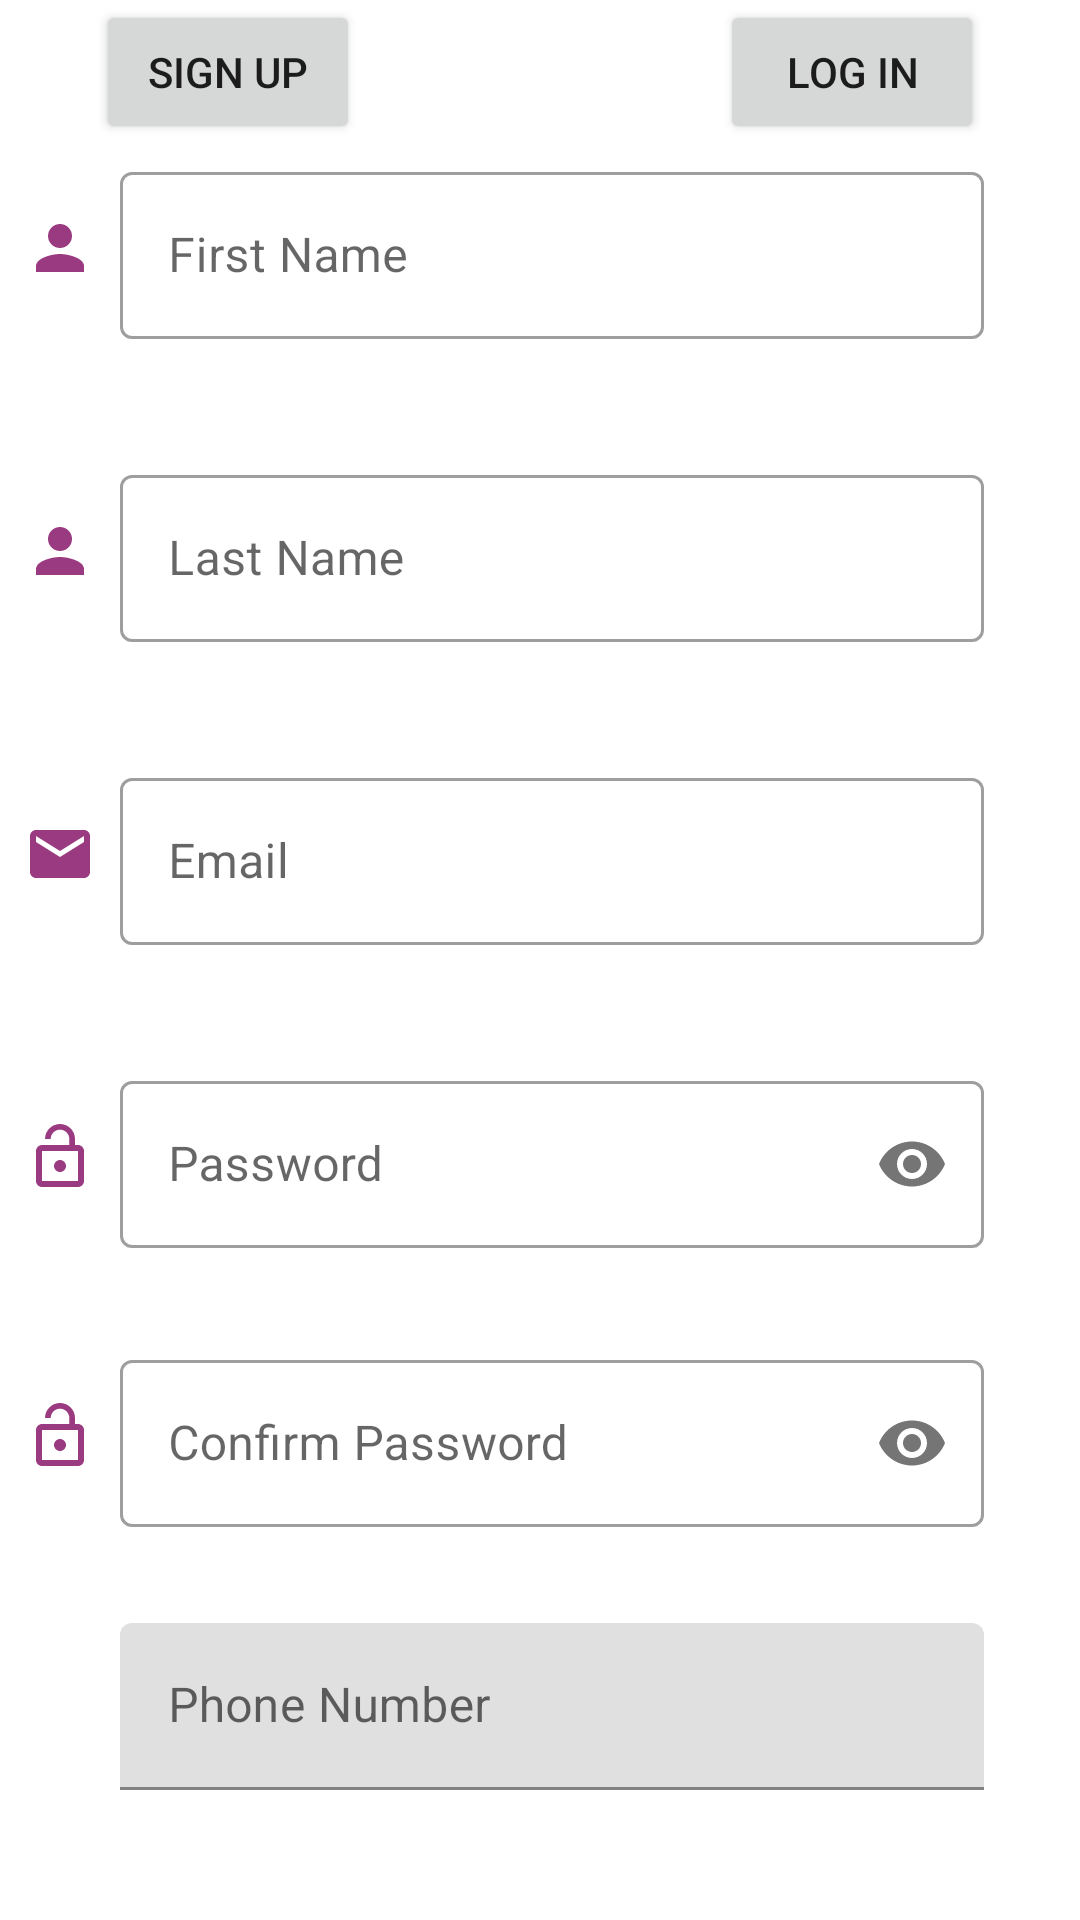

Icons on this 1080px×1920px Android screen, each with its box as (x1, y1, x2, y2):
lock open: (36, 1124, 84, 1187), (36, 1403, 84, 1466)
person: (36, 224, 84, 272), (36, 527, 84, 575)
